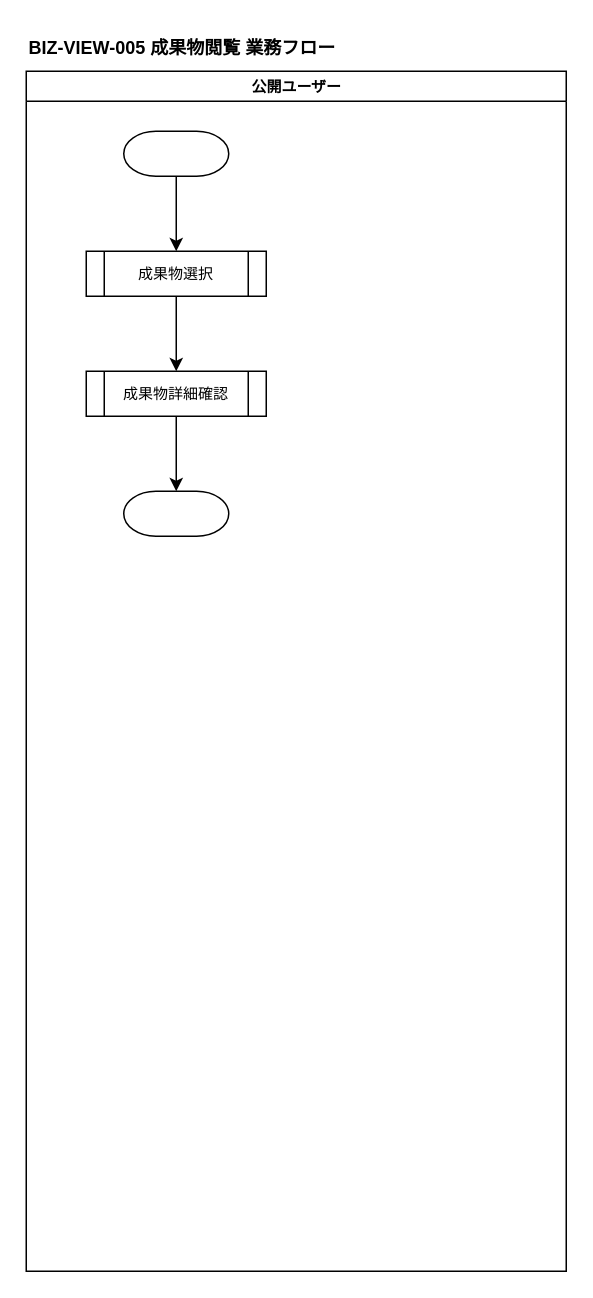
The diagram is 593 pixels wide and 1298 high, and some of its shapes have lost their labels. The shapes that lost their labels are listed below. From the top down, each one's centre as x and y in pixels, then its label:
At (x=175, y=153): "START".
At (x=175, y=513): "END".
